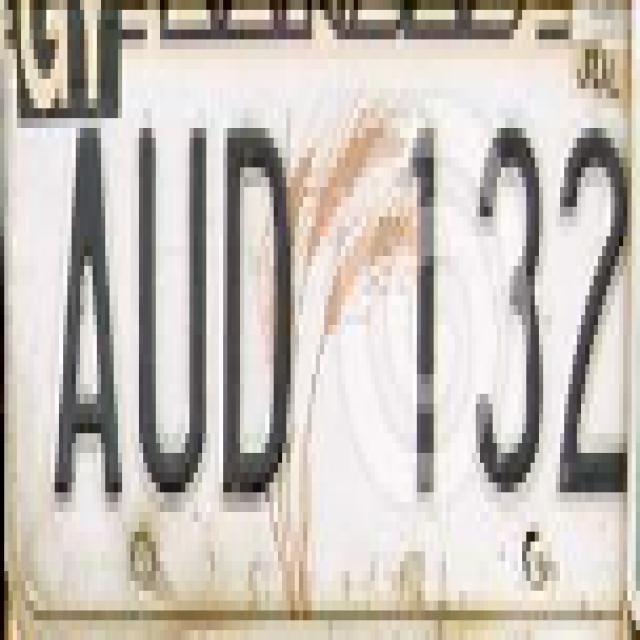1: (401, 114, 446, 508)
3: (469, 104, 548, 492)
A: (52, 115, 128, 500)
D: (220, 112, 294, 508)
U: (130, 112, 214, 510)
